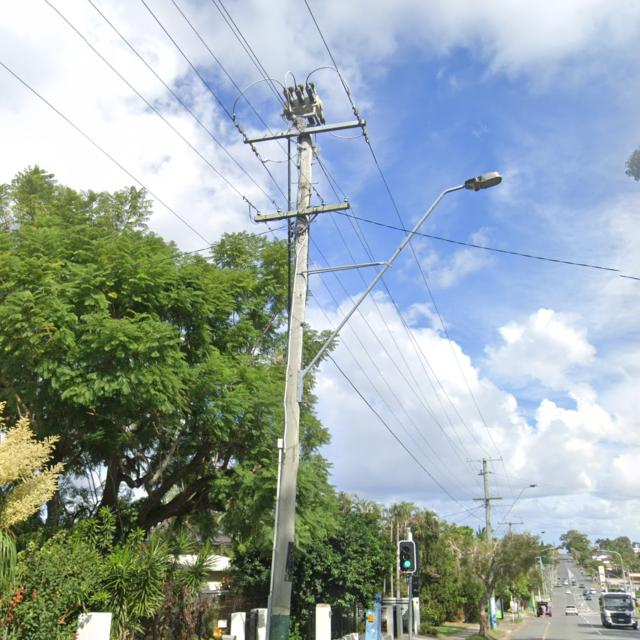HV-switch: (282, 81, 325, 127)
HV-transmission: (231, 104, 369, 159), (464, 456, 504, 463)
crossarm: (243, 117, 366, 144), (256, 201, 350, 223), (466, 458, 502, 463), (474, 496, 503, 501), (479, 471, 491, 476), (496, 522, 524, 524)
steel-pole: (406, 527, 413, 640), (620, 555, 627, 593)
streetlight: (296, 170, 504, 378), (490, 481, 538, 535), (596, 549, 622, 557)
timber-pole: (263, 132, 313, 640), (482, 459, 498, 629)
traffic-light: (399, 541, 416, 573), (412, 575, 420, 597)
